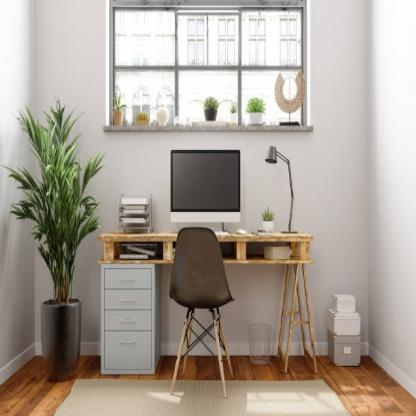Window: (112, 2, 304, 127)
